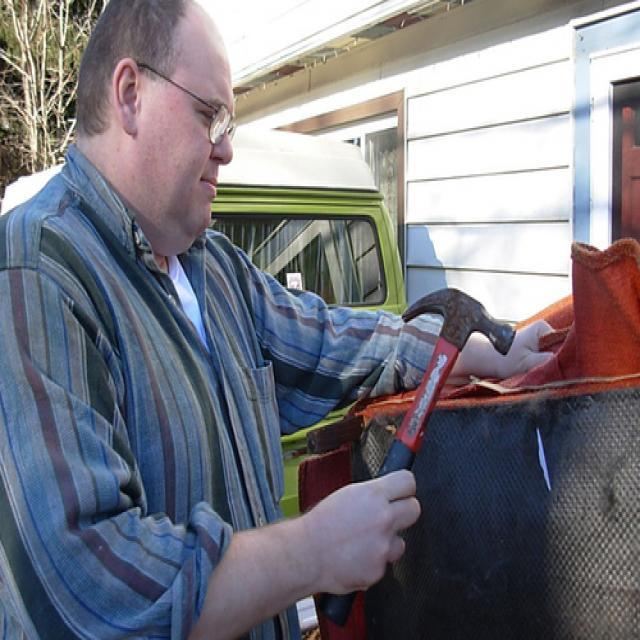hammer: (383, 290, 521, 510)
